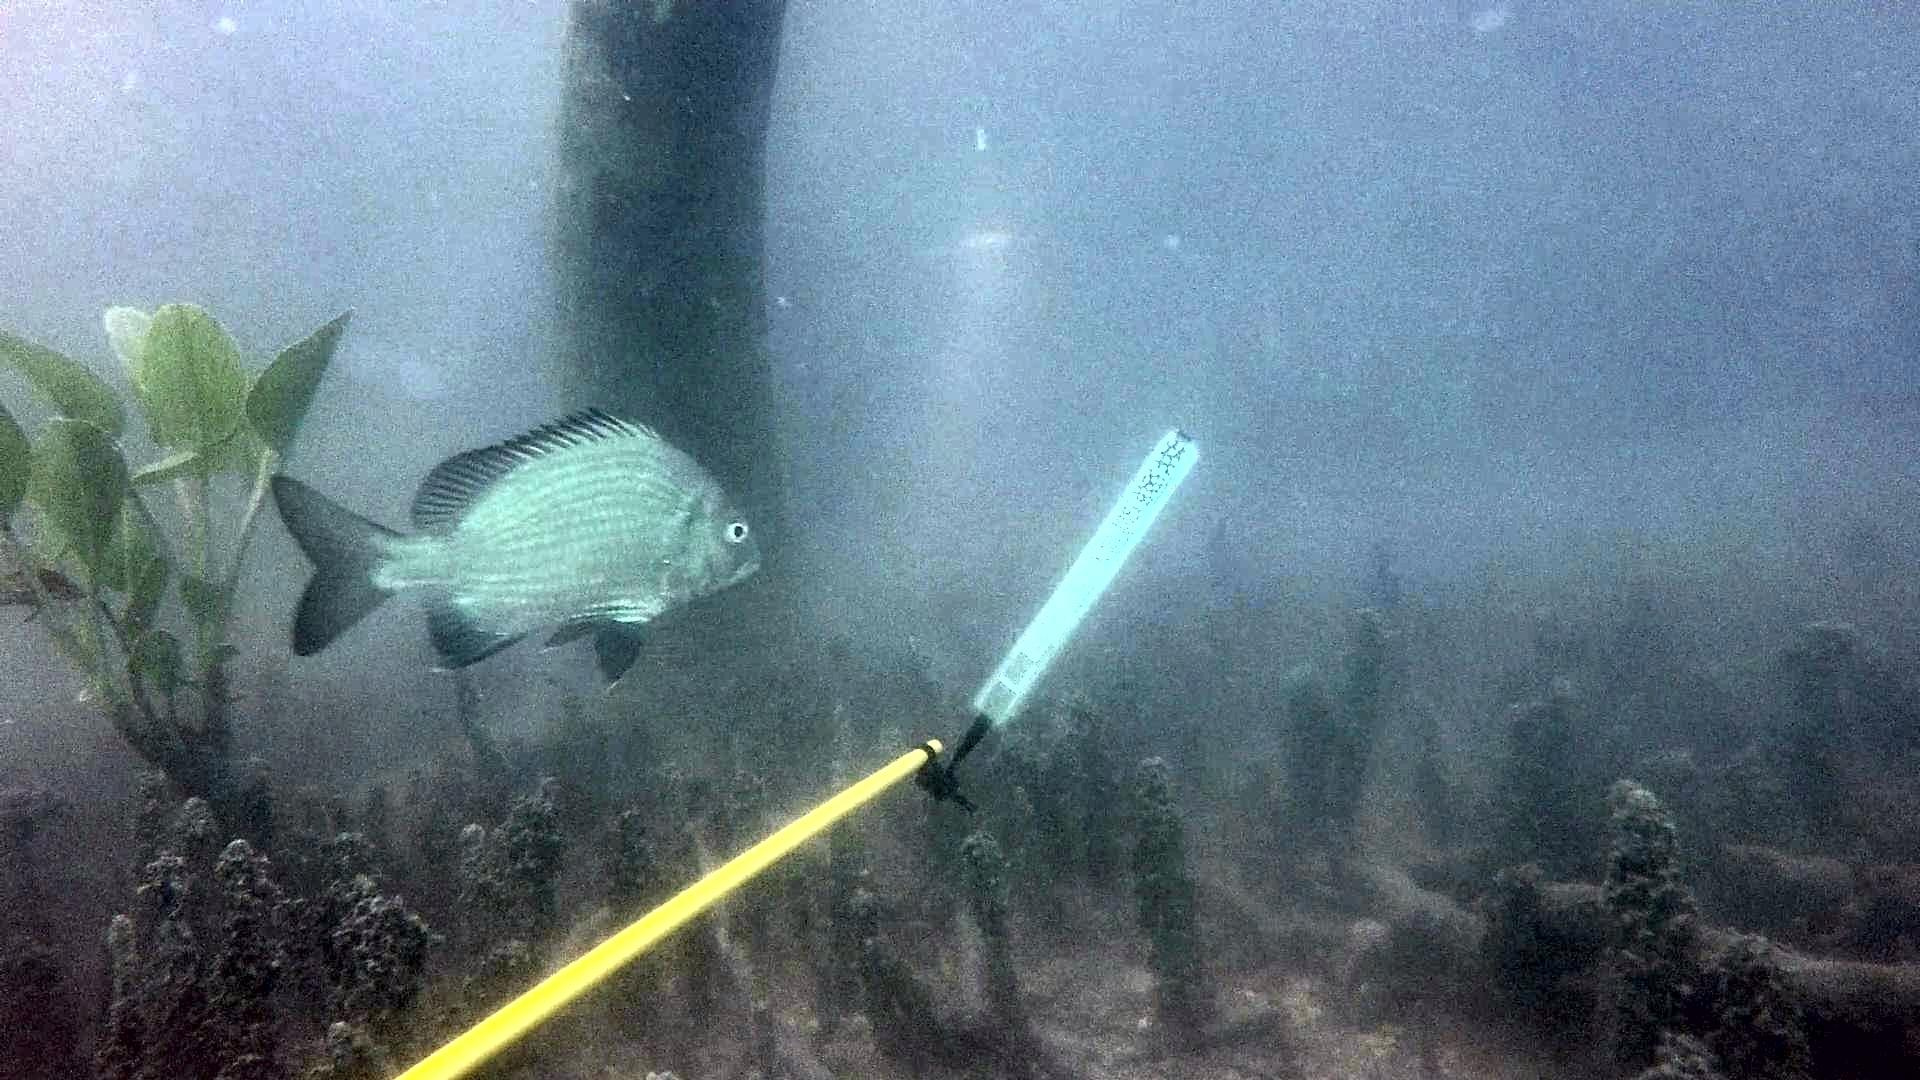acanthopagrus palmaris: (262, 397, 770, 700)
